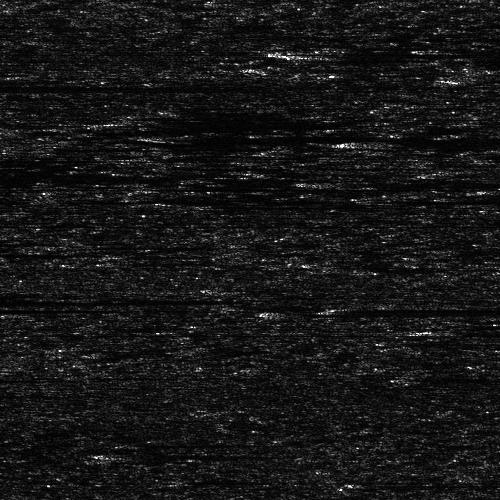rock: (273, 44, 366, 59), (382, 74, 500, 85), (289, 138, 382, 145), (386, 329, 479, 336), (97, 449, 150, 460), (190, 132, 243, 141), (278, 178, 361, 183), (314, 308, 367, 313), (331, 479, 372, 484)
shadow: (320, 44, 500, 59), (217, 132, 500, 141), (0, 294, 220, 305), (124, 449, 291, 460), (336, 138, 500, 145), (320, 178, 500, 183), (0, 82, 174, 87), (341, 308, 500, 313), (0, 305, 96, 312), (352, 479, 472, 484), (0, 392, 111, 397), (450, 74, 500, 85), (433, 329, 500, 336), (0, 250, 58, 255)
